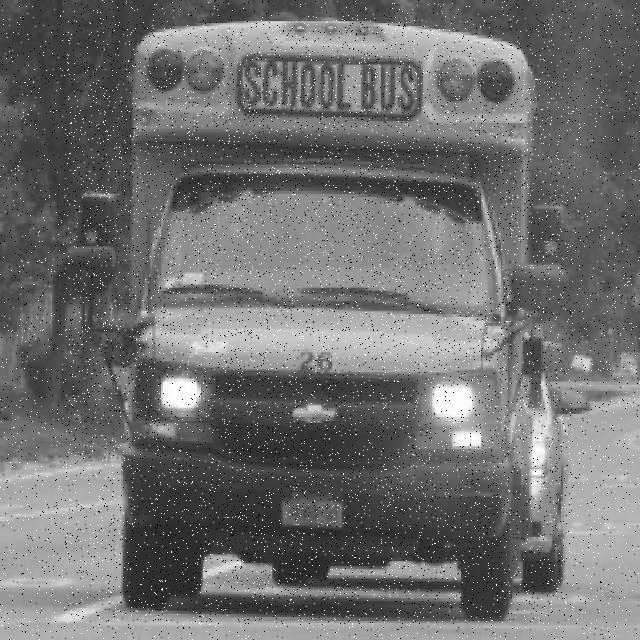Bus- Small: (63, 20, 572, 623)
